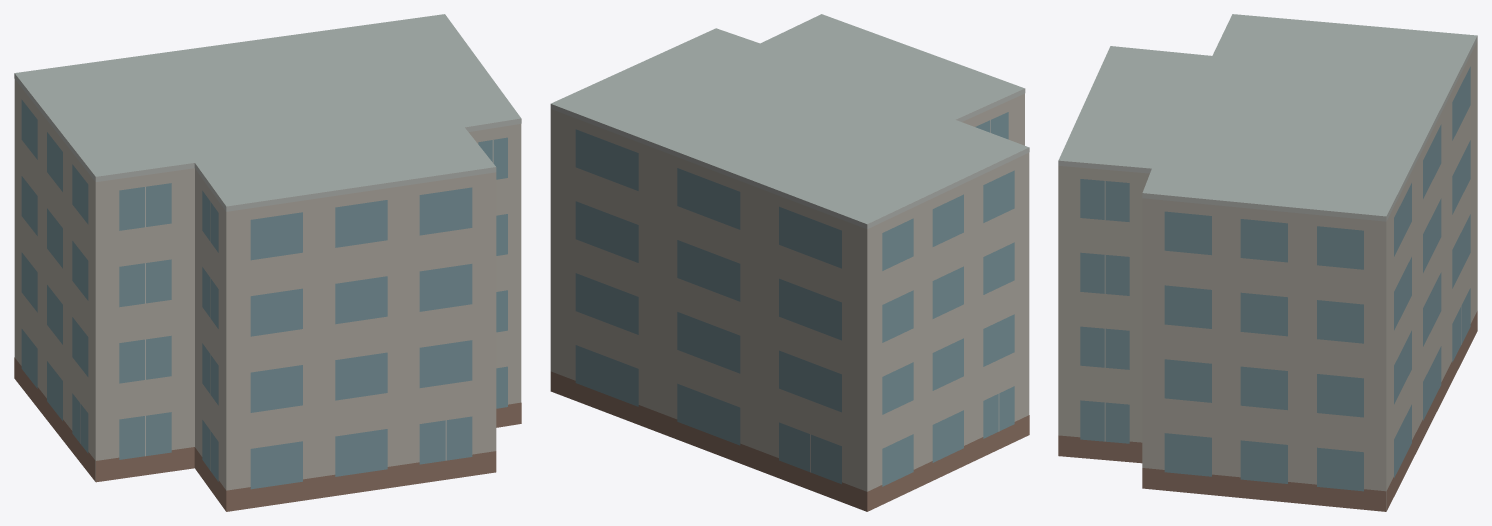
The model's file is survey-upis-32927026.glb.
3 renders of one model, left to right at view 1: azimuth 30°, elevation 25°; view 2: azimuth 150°, elevation 25°; view 3: azimuth 270°, elevation 25°, orthographic. The views are drawn at different scales.
Parts seen in each view (by area): view 1: survey-upis-32927026.tmp; view 2: survey-upis-32927026.tmp; view 3: survey-upis-32927026.tmp.
Part boxes in pixels (x1,y1,x2,y2): survey-upis-32927026.tmp: [14, 14, 521, 511]; survey-upis-32927026.tmp: [550, 14, 1029, 511]; survey-upis-32927026.tmp: [1058, 14, 1477, 511].
Size of the model in its own units: 20.59 by 14 by 18.02.
